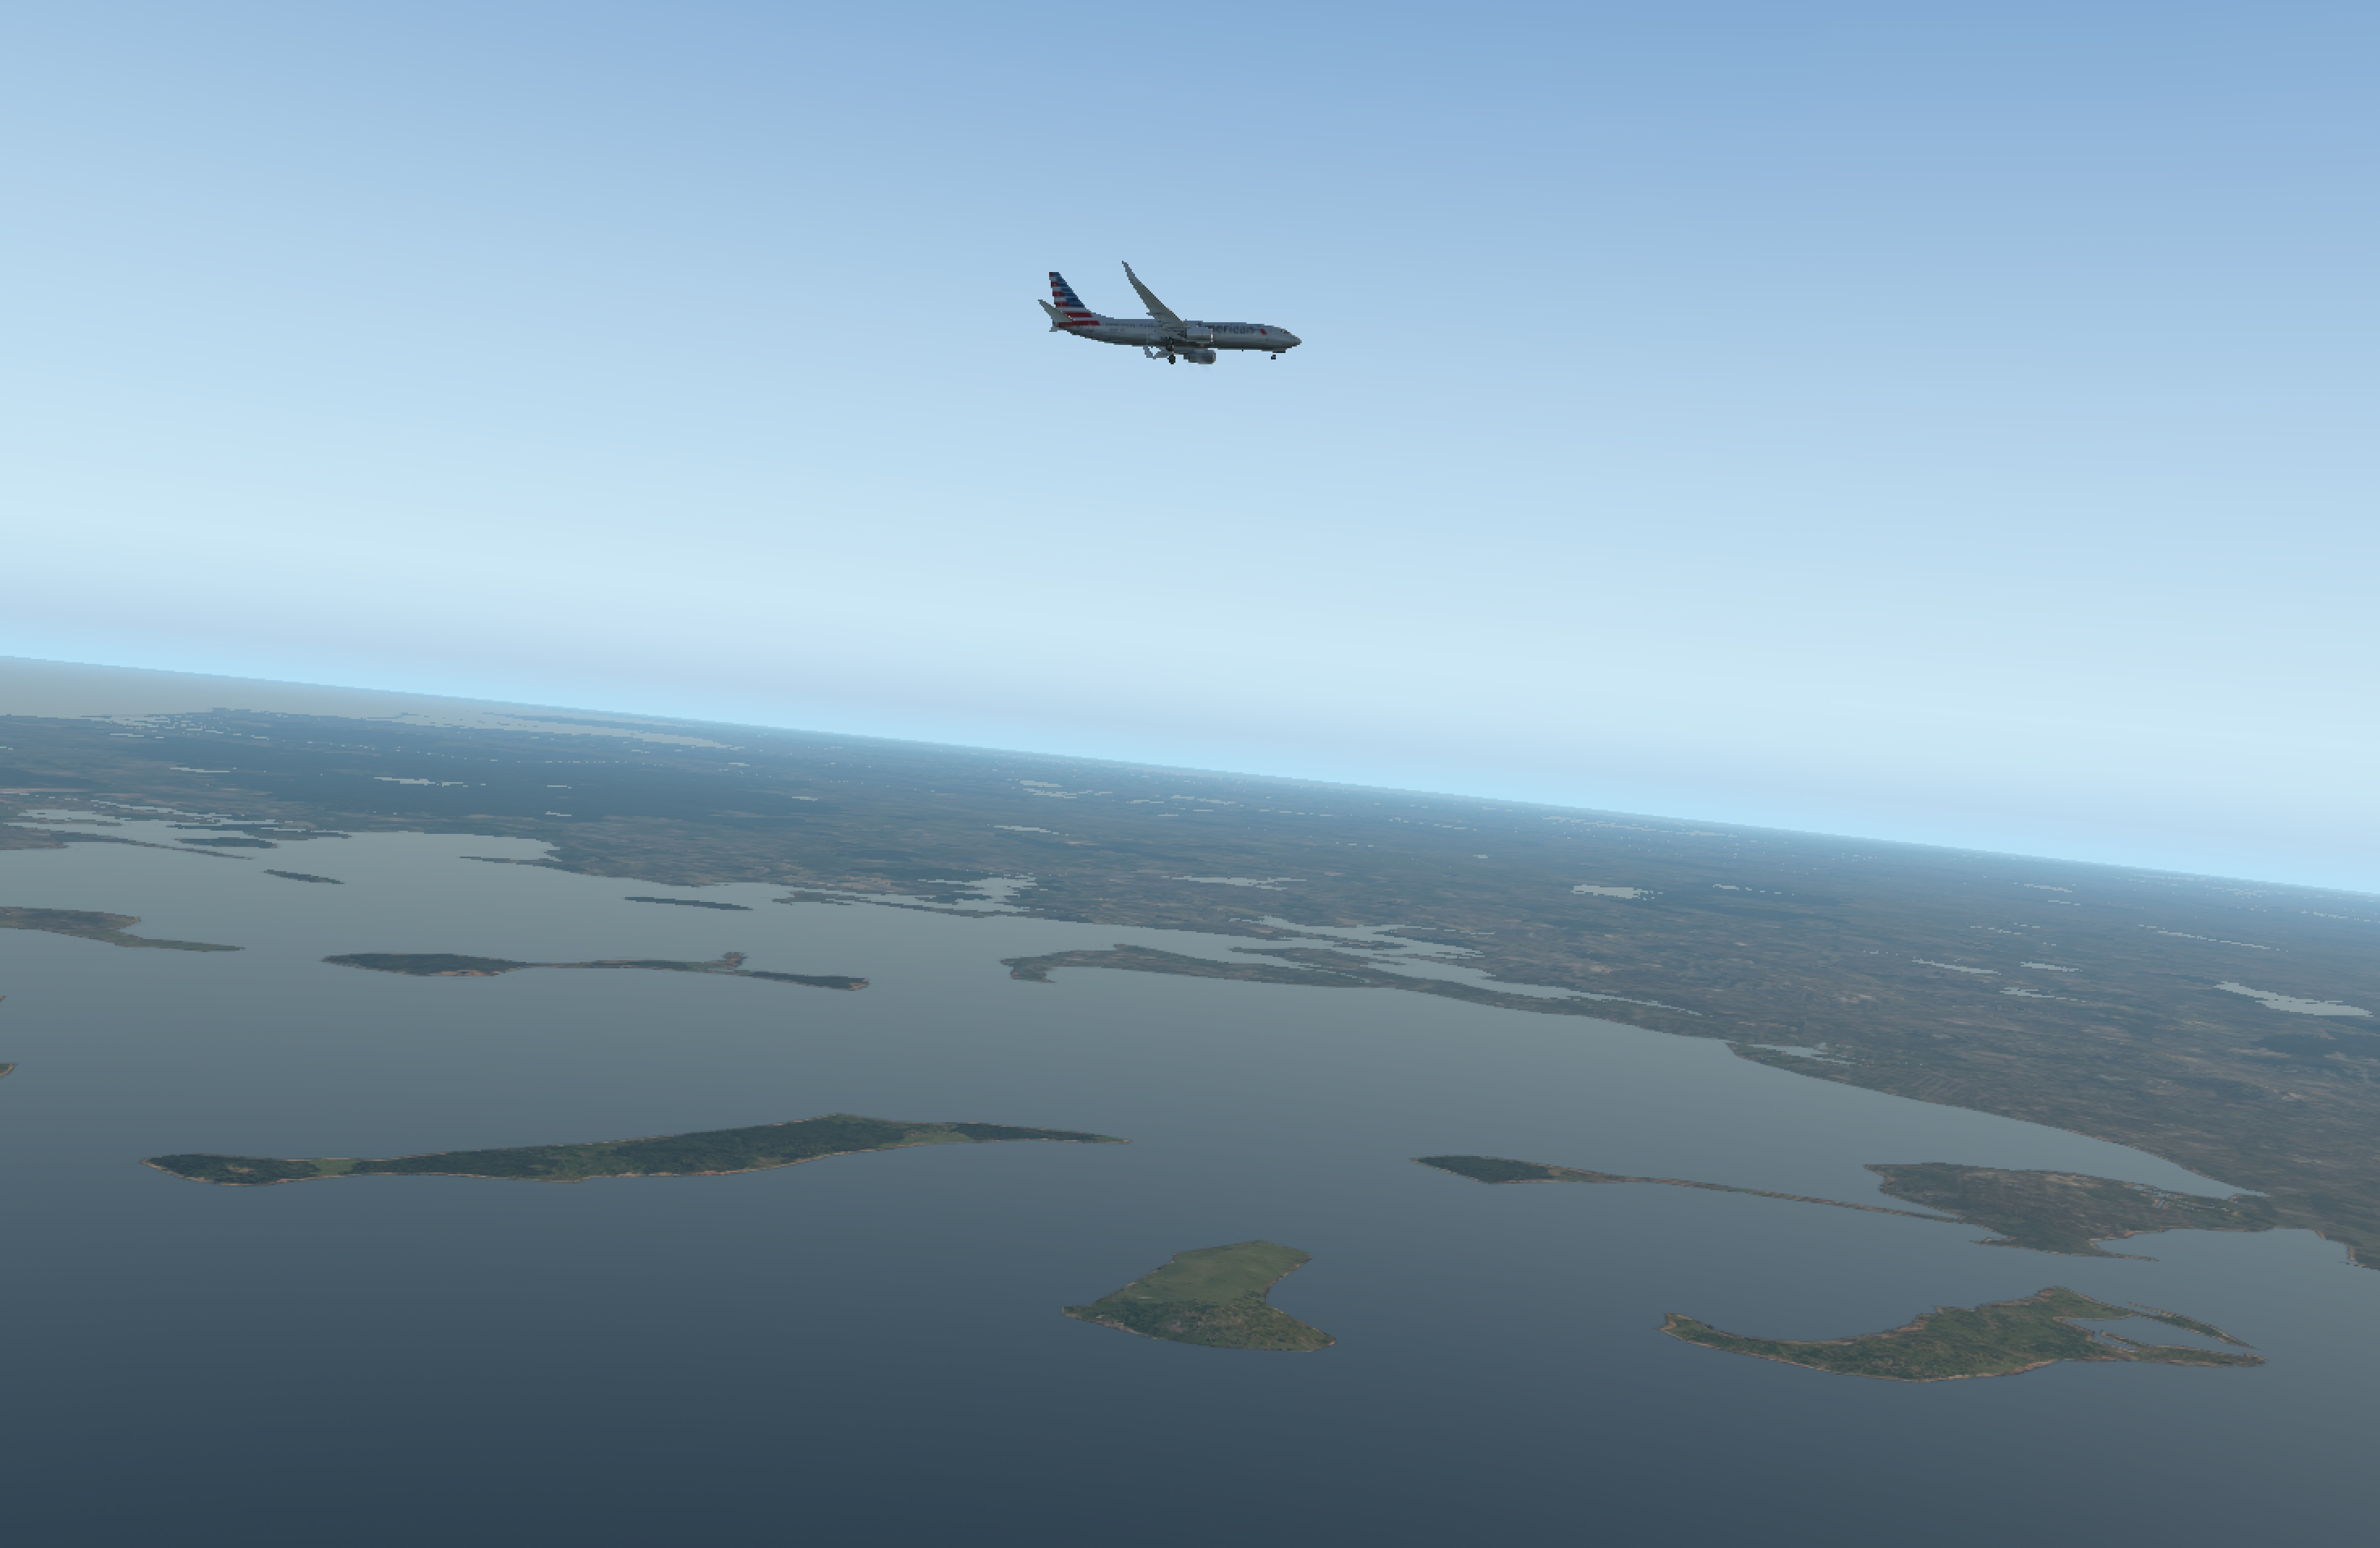aircraft: (1055, 290, 1308, 385)
